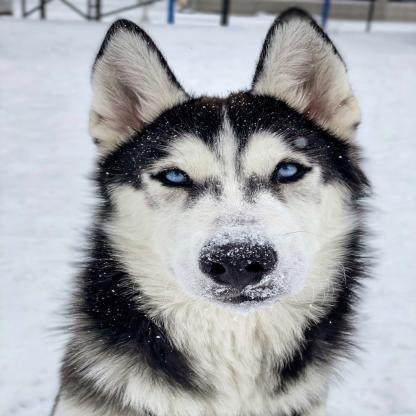dog: (60, 5, 374, 416)
